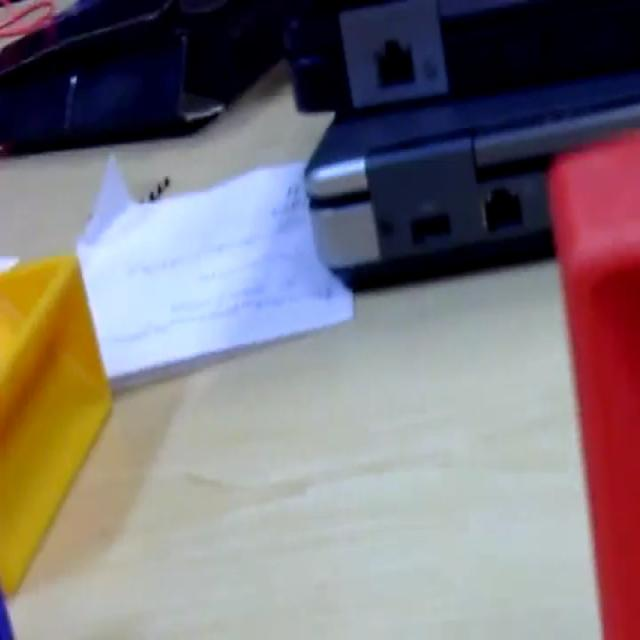red_block: (546, 127, 639, 636)
yellow_block: (0, 250, 113, 596)
